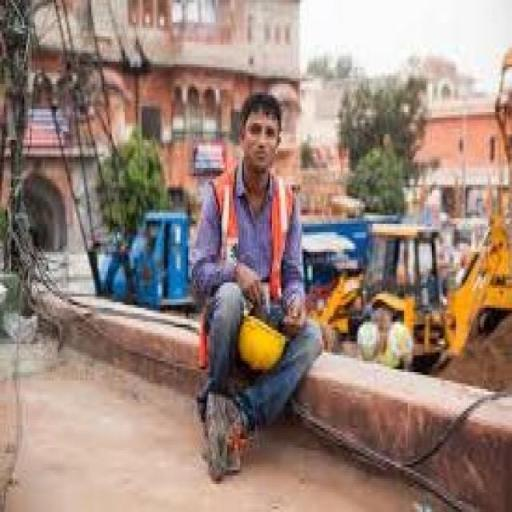helmet: (231, 314, 288, 374)
vest: (194, 162, 306, 380)
